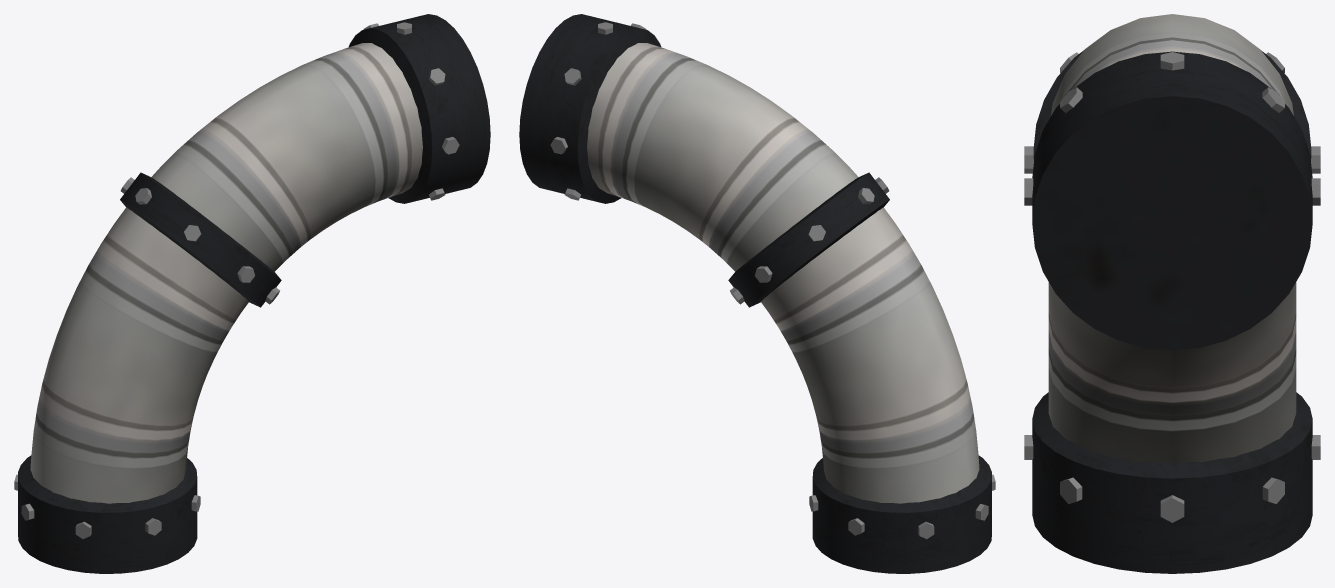
The model's file is metalPipingHalfBend.fbx.
3 views of the same model, side by side, from view 1: azimuth 30°, elevation 25°; view 2: azimuth 150°, elevation 25°; view 3: azimuth 270°, elevation 25° (orthographic). The views are drawn at different scales.
Parts seen in each view (by area): view 1: Torus, Cylinder.000, screw.030; view 2: Torus, Cylinder.000, screw.030; view 3: Cylinder.000, Torus, screw.030.
Boxes of the visible parts, x1,y1,x2,y2 form: Torus: [30, 43, 422, 503]; Cylinder.000: [18, 14, 490, 573]; screw.030: [14, 22, 459, 538]; Torus: [587, 43, 979, 503]; Cylinder.000: [519, 14, 991, 573]; screw.030: [550, 22, 995, 538]; Cylinder.000: [1032, 50, 1312, 573]; Torus: [1048, 14, 1296, 463]; screw.030: [1024, 52, 1320, 522].
Size of the model in its own units: 593 by 590 by 232.
